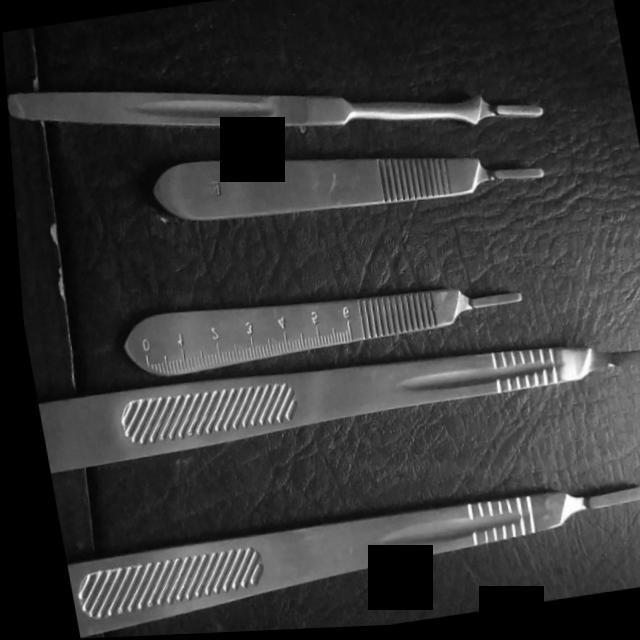Knife handle: (50, 464, 640, 639), (25, 312, 640, 478), (141, 111, 553, 254), (101, 253, 541, 382)
